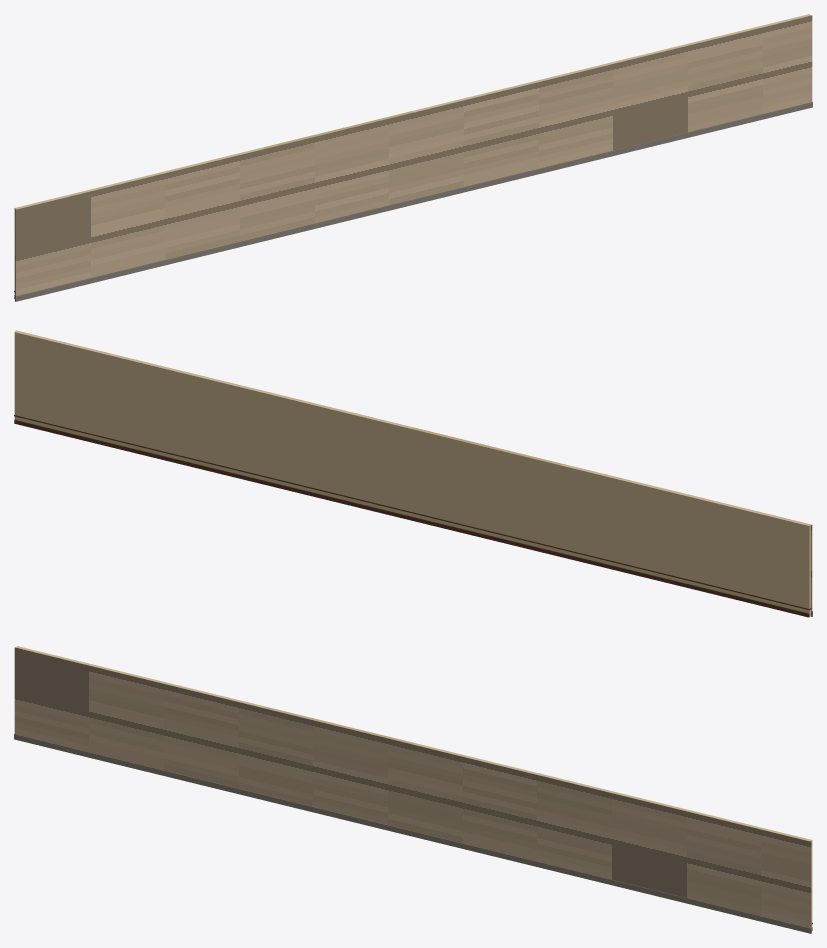
The model's file is mall_back.glb.
3 renders of one model, top to bottom at view 1: azimuth 30°, elevation 25°; view 2: azimuth 150°, elevation 25°; view 3: azimuth 330°, elevation 25°, orthographic.
Visible parts, largest first — view 1: Box3, Box4, Box1; view 2: Box1, Box2, Box6, Box3; view 3: Box3, Box4, Box1.
Boxes of the visible parts, bbox=[...] form: Box3: bbox=[15, 15, 812, 296]; Box4: bbox=[15, 102, 812, 301]; Box1: bbox=[14, 14, 810, 298]; Box1: bbox=[14, 331, 810, 616]; Box2: bbox=[14, 419, 809, 617]; Box6: bbox=[14, 415, 811, 610]; Box3: bbox=[16, 330, 812, 611]; Box3: bbox=[14, 647, 811, 928]; Box4: bbox=[14, 734, 811, 933]; Box1: bbox=[16, 646, 812, 930].
Size of the model in its own units: 40.27 by 4.44 by 0.25.
Materials: 4 (2 with a texture image).
